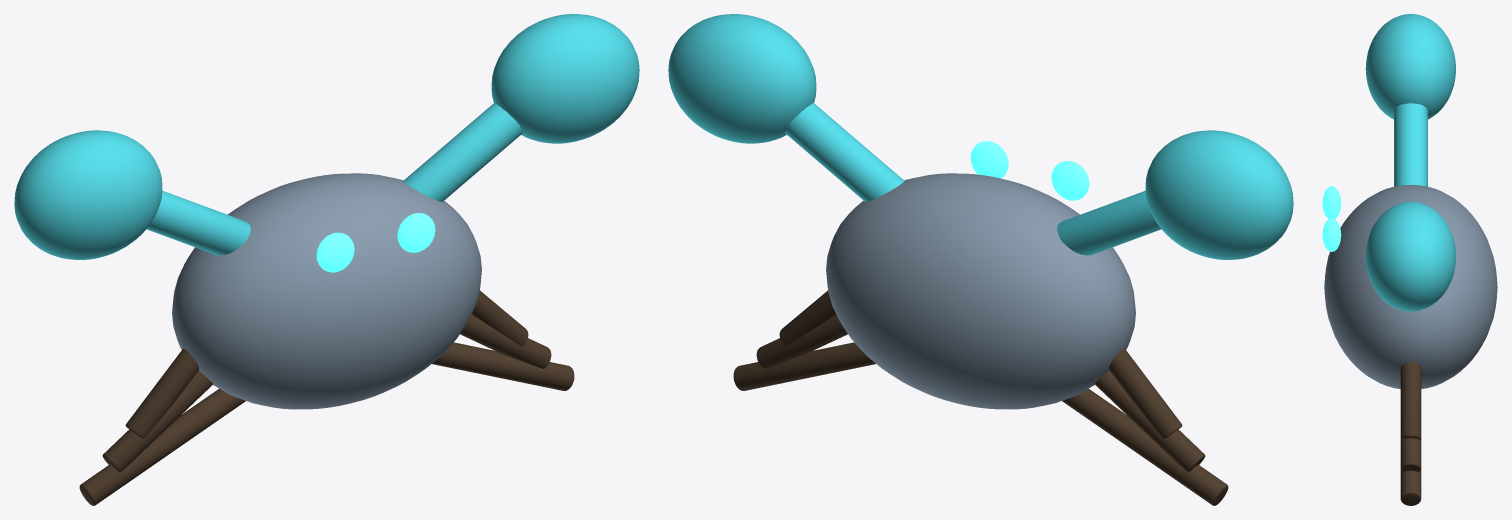
Rendered from aquatic_v8.glb.
3 renders of one model, left to right at view 1: azimuth 30°, elevation 25°; view 2: azimuth 150°, elevation 25°; view 3: azimuth 270°, elevation 25°, orthographic. The views are drawn at different scales.
Visible parts, largest first — view 1: CRAB_BODY_PRIMARY, CRAB_CLAW_ACCENT, CRAB_CLAW_ACCENT.001, CRAB_CLAW_ARM_ACCENT.001, CRAB_LEG_SECONDARY.002, CRAB_CLAW_ARM_ACCENT, CRAB_LEG_SECONDARY.005, CRAB_LEG_SECONDARY, CRAB_LEG_SECONDARY.001, CRAB_LEG_SECONDARY.004, CRAB_LEG_SECONDARY.003, EYE_EMISSIVE.001 (+1 smaller); view 2: CRAB_BODY_PRIMARY, CRAB_CLAW_ACCENT, CRAB_CLAW_ACCENT.001, CRAB_CLAW_ARM_ACCENT.001, CRAB_LEG_SECONDARY.002, CRAB_CLAW_ARM_ACCENT, CRAB_LEG_SECONDARY.005, CRAB_LEG_SECONDARY, CRAB_LEG_SECONDARY.001, CRAB_LEG_SECONDARY.004, CRAB_LEG_SECONDARY.003, EYE_EMISSIVE (+1 smaller); view 3: CRAB_BODY_PRIMARY, CRAB_CLAW_ACCENT.001, CRAB_CLAW_ACCENT, CRAB_CLAW_ARM_ACCENT, CRAB_LEG_SECONDARY.003, CRAB_LEG_SECONDARY.005, CRAB_LEG_SECONDARY.004, EYE_EMISSIVE.001, EYE_EMISSIVE.
Boxes of the visible parts, <box> form: CRAB_BODY_PRIMARY: <box>172,173,481,409</box>; CRAB_CLAW_ACCENT: <box>14,130,162,259</box>; CRAB_CLAW_ACCENT.001: <box>491,14,639,143</box>; CRAB_CLAW_ARM_ACCENT.001: <box>403,103,522,201</box>; CRAB_LEG_SECONDARY.002: <box>79,388,245,505</box>; CRAB_CLAW_ARM_ACCENT: <box>146,190,250,255</box>; CRAB_LEG_SECONDARY.005: <box>432,342,574,390</box>; CRAB_LEG_SECONDARY: <box>125,348,199,438</box>; CRAB_LEG_SECONDARY.001: <box>102,370,212,472</box>; CRAB_LEG_SECONDARY.004: <box>460,314,551,368</box>; CRAB_LEG_SECONDARY.003: <box>472,290,528,346</box>; EYE_EMISSIVE.001: <box>397,213,435,252</box>; CRAB_BODY_PRIMARY: <box>826,173,1135,409</box>; CRAB_CLAW_ACCENT: <box>1145,130,1293,259</box>; CRAB_CLAW_ACCENT.001: <box>668,14,816,143</box>; CRAB_CLAW_ARM_ACCENT.001: <box>785,103,904,201</box>; CRAB_LEG_SECONDARY.002: <box>1062,388,1228,505</box>; CRAB_CLAW_ARM_ACCENT: <box>1057,190,1161,255</box>; CRAB_LEG_SECONDARY.005: <box>733,342,875,390</box>; CRAB_LEG_SECONDARY: <box>1108,348,1182,438</box>; CRAB_LEG_SECONDARY.001: <box>1095,370,1205,472</box>; CRAB_LEG_SECONDARY.004: <box>756,314,847,368</box>; CRAB_LEG_SECONDARY.003: <box>779,290,835,346</box>; EYE_EMISSIVE: <box>1051,161,1089,200</box>; CRAB_BODY_PRIMARY: <box>1324,185,1497,388</box>; CRAB_CLAW_ACCENT.001: <box>1365,201,1455,311</box>; CRAB_CLAW_ACCENT: <box>1365,14,1455,119</box>; CRAB_CLAW_ARM_ACCENT: <box>1394,103,1427,186</box>; CRAB_LEG_SECONDARY.003: <box>1400,362,1421,439</box>; CRAB_LEG_SECONDARY.005: <box>1400,469,1421,505</box>; CRAB_LEG_SECONDARY.004: <box>1400,438,1421,472</box>; EYE_EMISSIVE.001: <box>1322,218,1341,251</box>; EYE_EMISSIVE: <box>1322,186,1341,218</box>.
Bounding box in the file's own units: 3.04 × 1.75 × 0.93.
